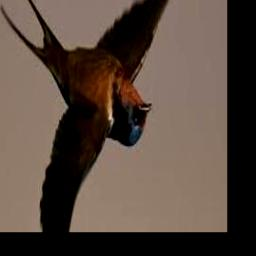Swallow: (1, 0, 211, 232)
